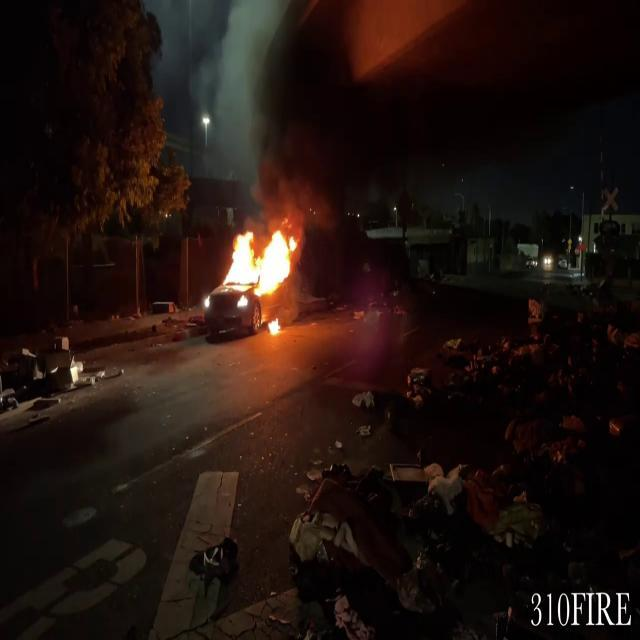Fire: (215, 222, 302, 313)
Smoke: (241, 19, 386, 232)
